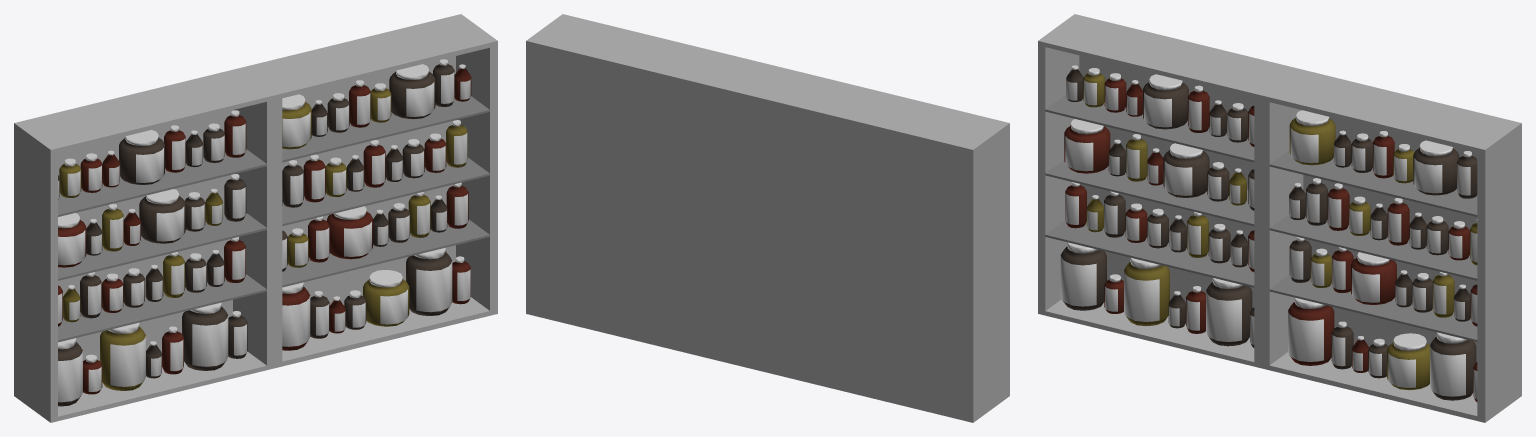
The model's file is ShelvesLab.fbx.
The picture shows the model from 3 angles, left to right: view 1: azimuth 30°, elevation 25°; view 2: azimuth 150°, elevation 25°; view 3: azimuth 330°, elevation 25°; orthographic projection.
Visible parts, largest first — view 1: Cube; view 2: Cube; view 3: Cube.
Part boxes in pixels (box(x1,y1,x2,y2)): Cube: box(14, 14, 497, 422); Cube: box(526, 14, 1009, 422); Cube: box(1038, 14, 1521, 422).
Size of the model in its own units: 366 by 213 by 52.03.
